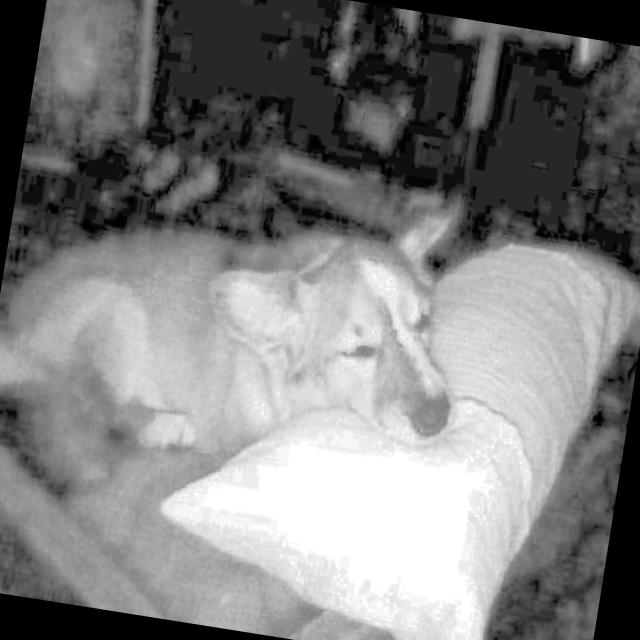Dog: (0, 121, 490, 495)
